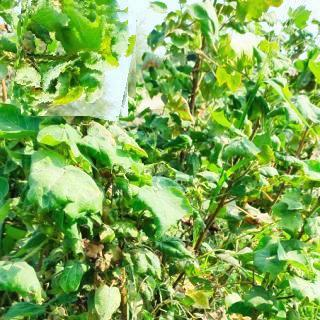curl: (12, 0, 136, 116), (116, 164, 193, 242)
